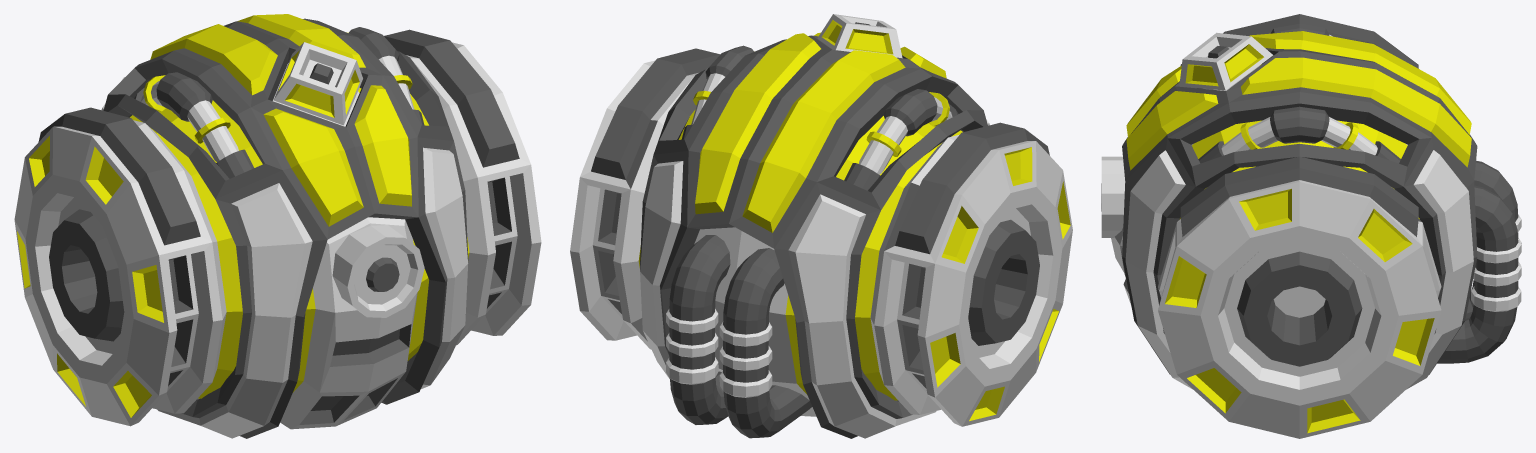
Rendered from mid_tower3_1.fbx.
The picture shows the model from 3 angles, left to right: view 1: azimuth 30°, elevation 25°; view 2: azimuth 150°, elevation 25°; view 3: azimuth 270°, elevation 25°; orthographic projection. The views are drawn at different scales.
Visible parts, largest first — view 1: polySurface129; view 2: polySurface129; view 3: polySurface129.
Boxes of the visible parts, x1=… form: polySurface129: x1=14, y1=14, x2=541, y2=438; polySurface129: x1=570, y1=14, x2=1072, y2=438; polySurface129: x1=1101, y1=14, x2=1521, y2=438.
Bounding box in the file's own units: 0.8987 × 0.8289 × 0.8992.
